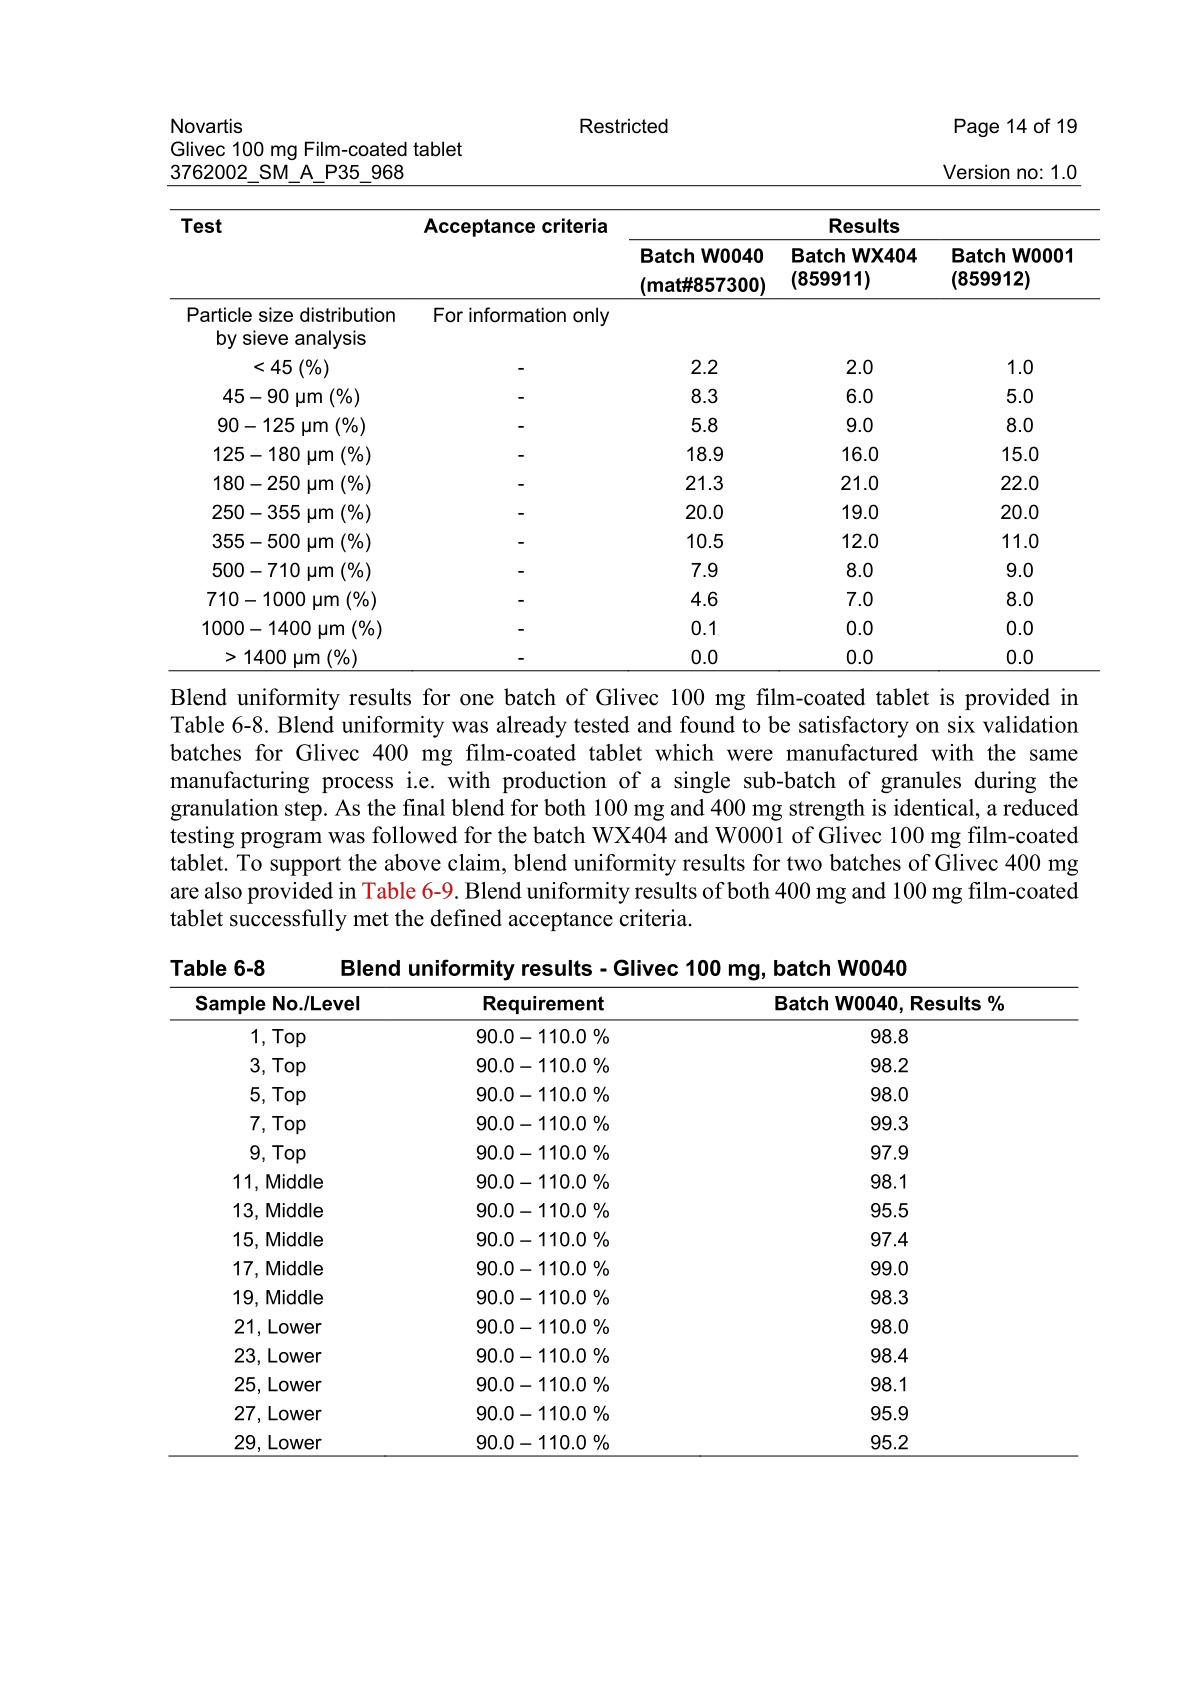partial_lined: (168, 984, 1078, 1459)
partial_lined_merged_cells: (169, 207, 1101, 673)
